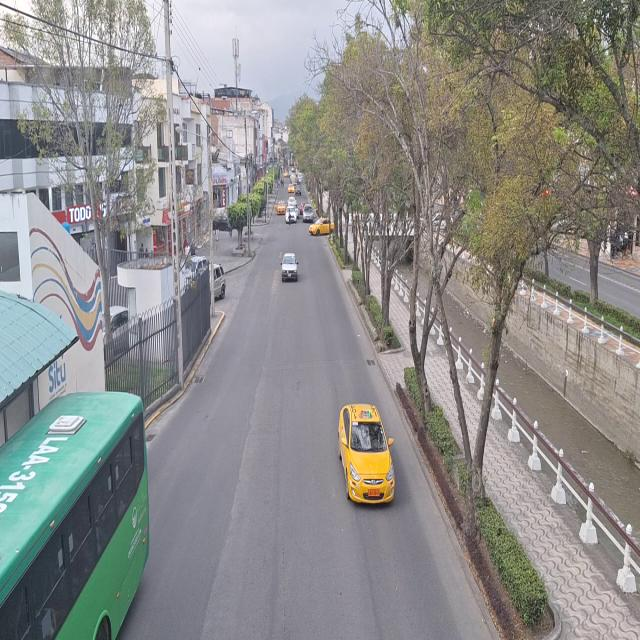BUS: (0, 393, 140, 638)
SED: (339, 408, 391, 503)
